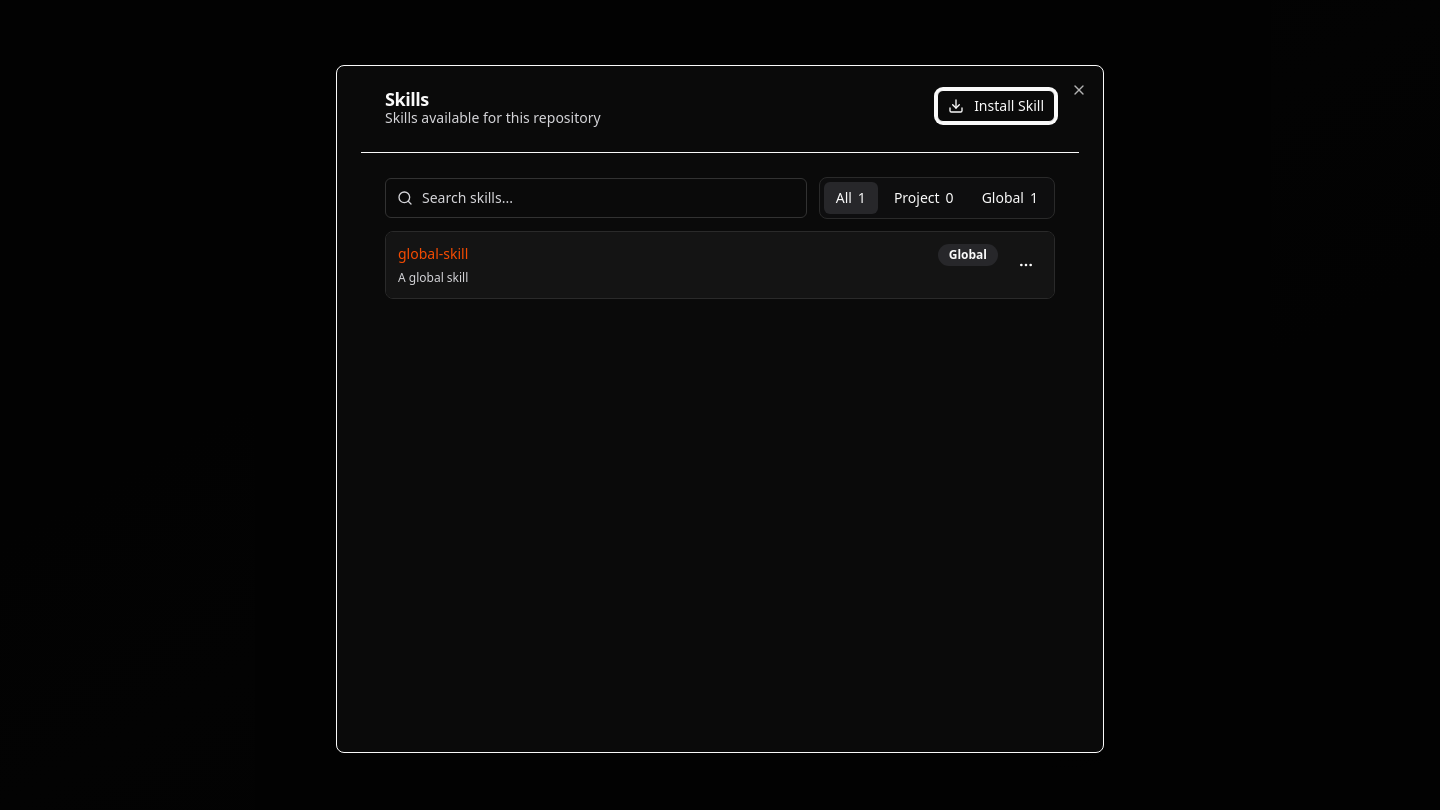
Test: RepoSkillsDialog › tabs and skill filtering › shows empty state for project tab when no project skills
The image size is (1440, 810).
Click the text "Project": (917, 198) [894, 188, 940, 208]
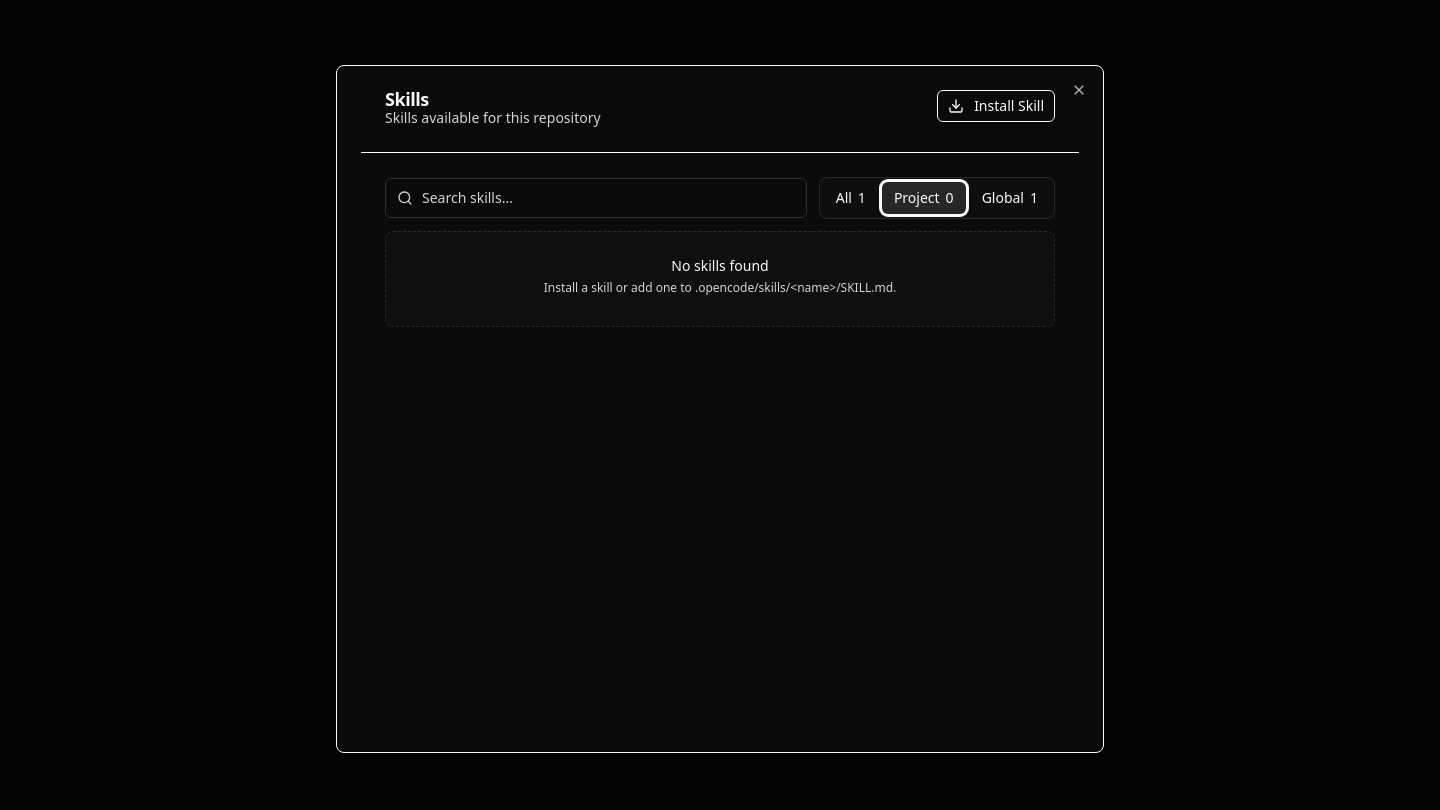
Now the text "No skills found" is shown, box [671, 256, 769, 275]
